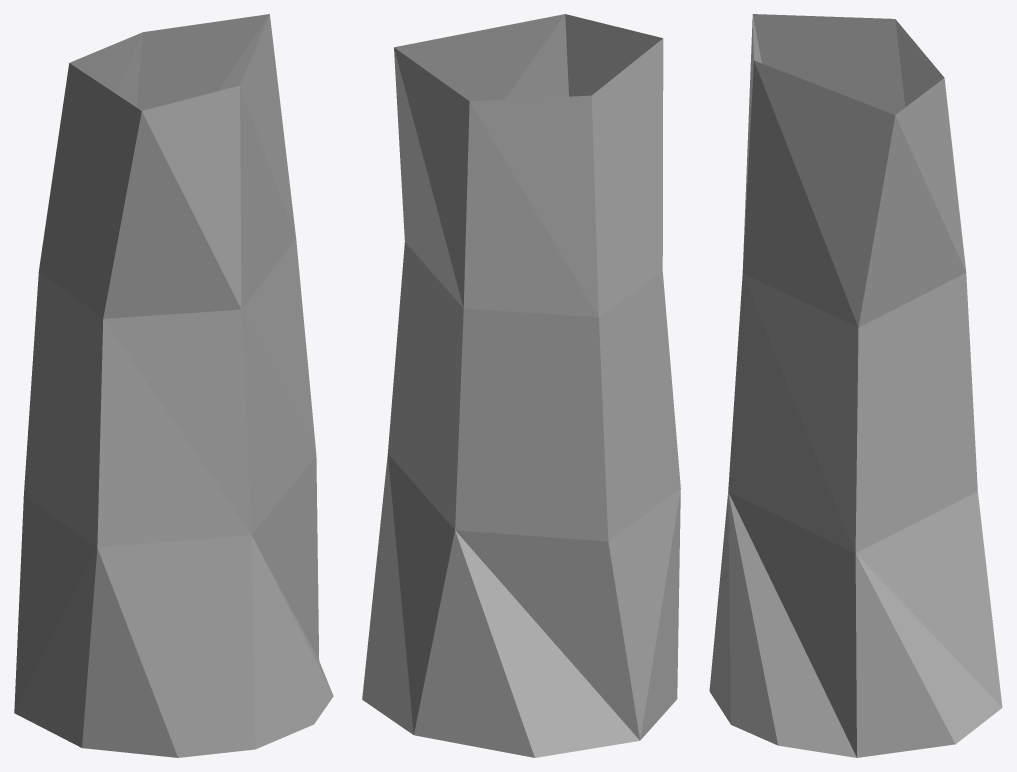
The model's file is Fantasmanobrazo.obj.
3 renders of one model, left to right at view 1: azimuth 30°, elevation 25°; view 2: azimuth 150°, elevation 25°; view 3: azimuth 270°, elevation 25°, orthographic.
Visible parts, largest first — view 1: Fantasmano.001_Material.001; view 2: Fantasmano.001_Material.001; view 3: Fantasmano.001_Material.001.
Boxes of the visible parts, box(x1,y1,x2,y2) form: Fantasmano.001_Material.001: box(14, 14, 333, 757); Fantasmano.001_Material.001: box(362, 14, 680, 757); Fantasmano.001_Material.001: box(709, 14, 1002, 757).
Size of the model in its own units: 0.6276 by 1.37 by 0.5738.
